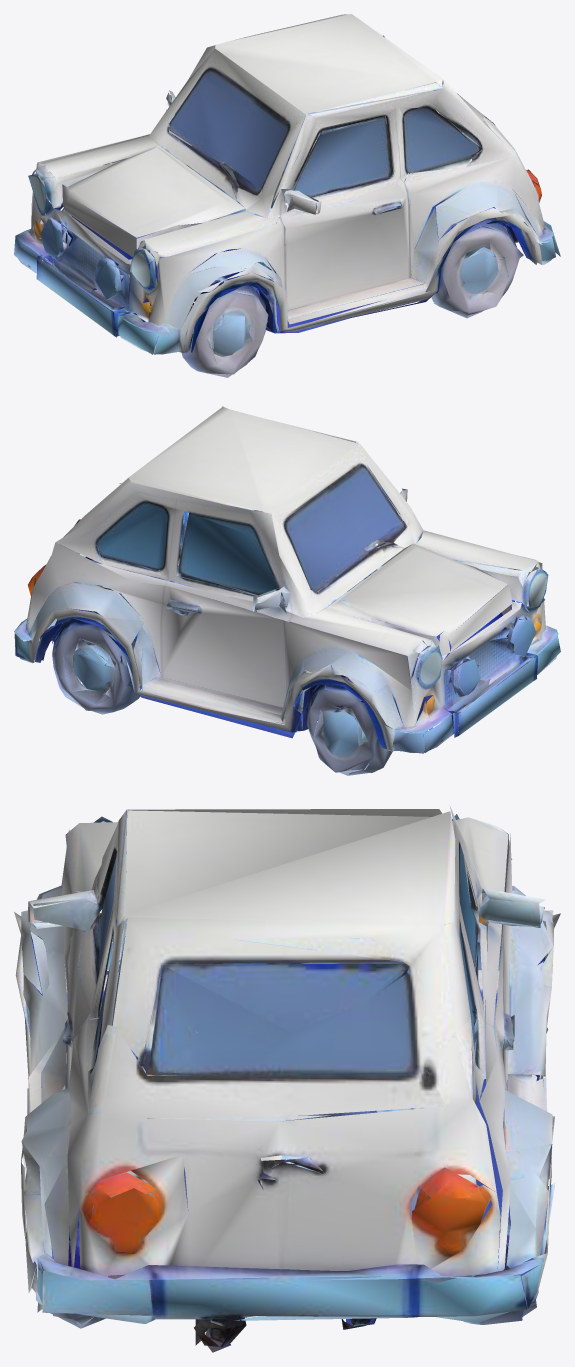
The model's file is car.glb.
3 renders of one model, top to bottom at view 1: azimuth 30°, elevation 25°; view 2: azimuth 150°, elevation 25°; view 3: azimuth 270°, elevation 25°, orthographic. The views are drawn at different scales.
Visible parts, largest first — view 1: Mesh1.0; view 2: Mesh1.0; view 3: Mesh1.0.
Boxes of the visible parts, x1,y1,x2,y2 form: Mesh1.0: (14,14,560,377); Mesh1.0: (14,406,560,775); Mesh1.0: (14,805,560,1352).
Bounding box in the file's own units: 2.01 × 1.05 × 1.32.
1 material, 1 textured.
